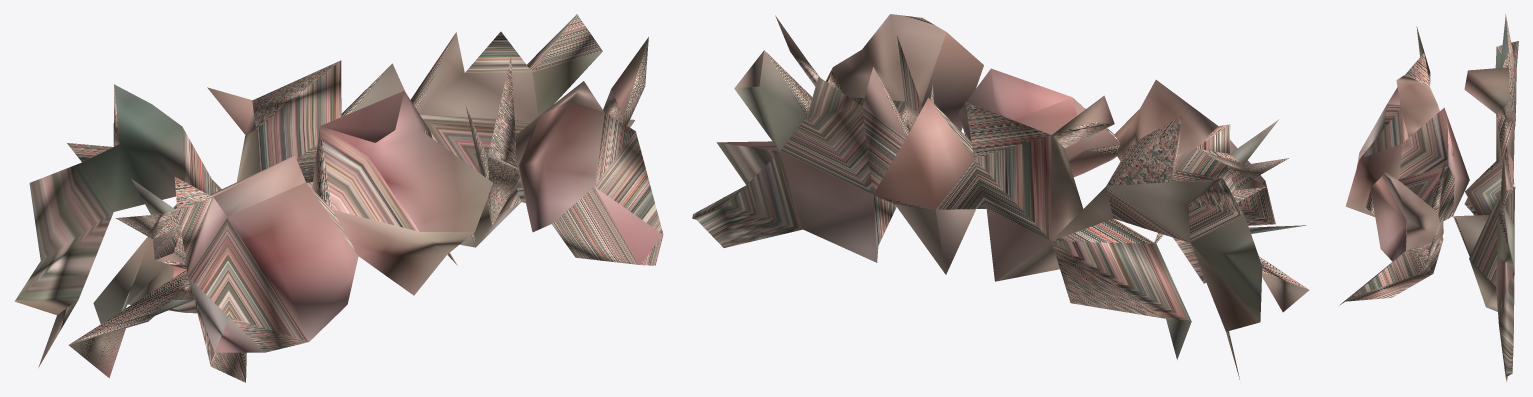
3 renders of one model, left to right at view 1: azimuth 30°, elevation 25°; view 2: azimuth 150°, elevation 25°; view 3: azimuth 270°, elevation 25°, orthographic. The views are drawn at different scales.
Visible parts, largest first — view 1: Rose-Spray-9-10-Upper; view 2: Rose-Spray-9-10-Upper; view 3: Rose-Spray-9-10-Upper.
Boxes of the visible parts, bbox=[...] form: Rose-Spray-9-10-Upper: bbox=[14, 14, 663, 382]; Rose-Spray-9-10-Upper: bbox=[692, 14, 1309, 379]; Rose-Spray-9-10-Upper: bbox=[1339, 14, 1518, 382].
Size of the model in its own units: 0.2379 by 0.0982 by 0.0823.
1 material, 1 textured.
